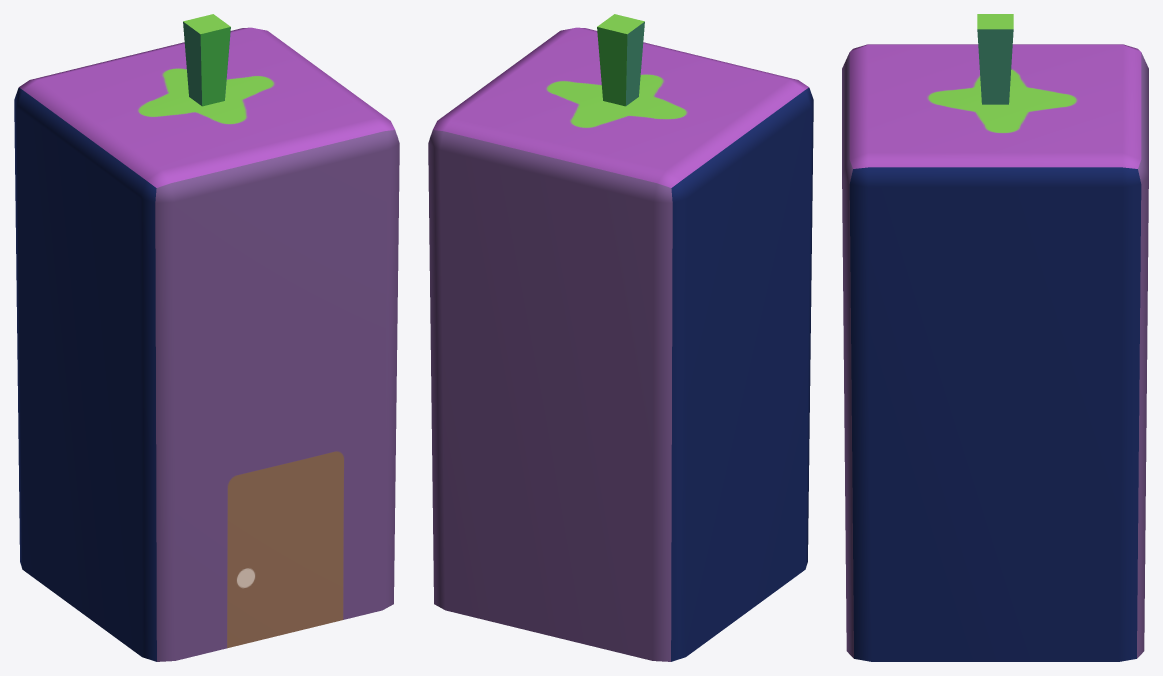
File: houseEggplant.fbx
3 views of the same model, side by side, from view 1: azimuth 30°, elevation 25°; view 2: azimuth 150°, elevation 25°; view 3: azimuth 270°, elevation 25° (orthographic). The views are drawn at different scales.
Parts seen in each view (by area): view 1: body, stalk; view 2: body, stalk; view 3: body, stalk.
Boxes of the visible parts, bbox=[...] form: body: bbox=[14, 27, 399, 661]; stalk: bbox=[183, 14, 230, 106]; body: bbox=[428, 27, 813, 661]; stalk: bbox=[597, 14, 644, 106]; body: bbox=[842, 44, 1148, 661]; stalk: bbox=[977, 14, 1013, 104].
Bounding box in the file's own units: 4.98 × 10.34 × 4.98.
